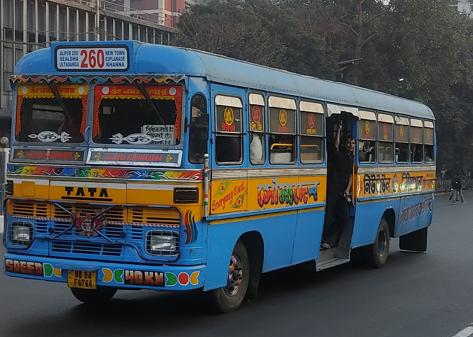Bus: (6, 40, 439, 324)
